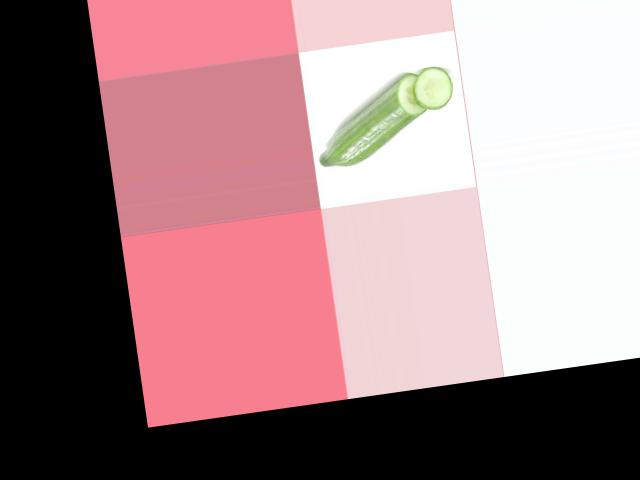cucumber: (309, 71, 435, 169)
